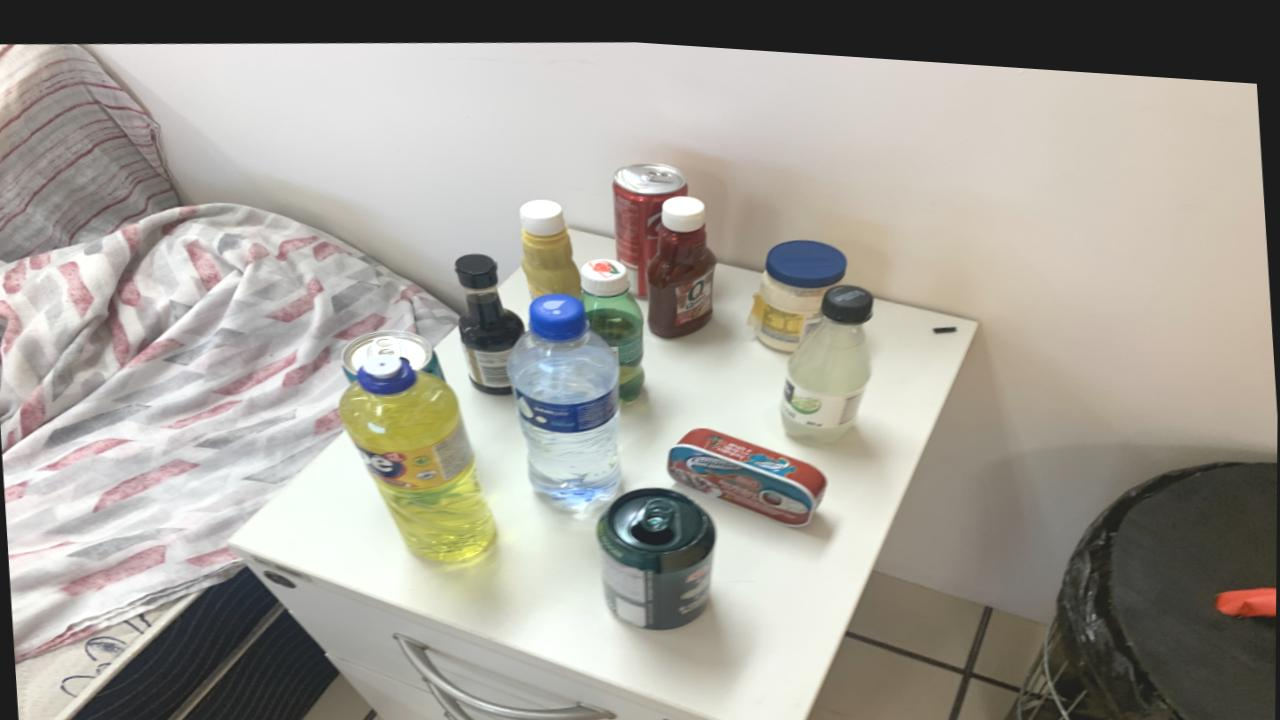Coke-Drinks: (612, 154, 687, 286)
Detergent-Cleanup_Items: (339, 351, 494, 553)
English_Sauce-Pantry_Items: (454, 248, 524, 387)
Guarana-Drinks: (580, 249, 644, 392)
Guarana_Can-Drinks: (598, 479, 716, 619)
Ketchup-Pantry_Items: (647, 186, 716, 327)
Mayonnaise-Pantry_Items: (747, 227, 847, 340)
Mustard-Pantry_Items: (518, 192, 581, 290)
Soda-Drinks: (780, 271, 874, 430)
Tea-Drinks: (343, 324, 444, 376)
Tuna_Can-Pantry_Items: (667, 419, 828, 515)
Water_Bottle-Drinks: (508, 286, 620, 502)
